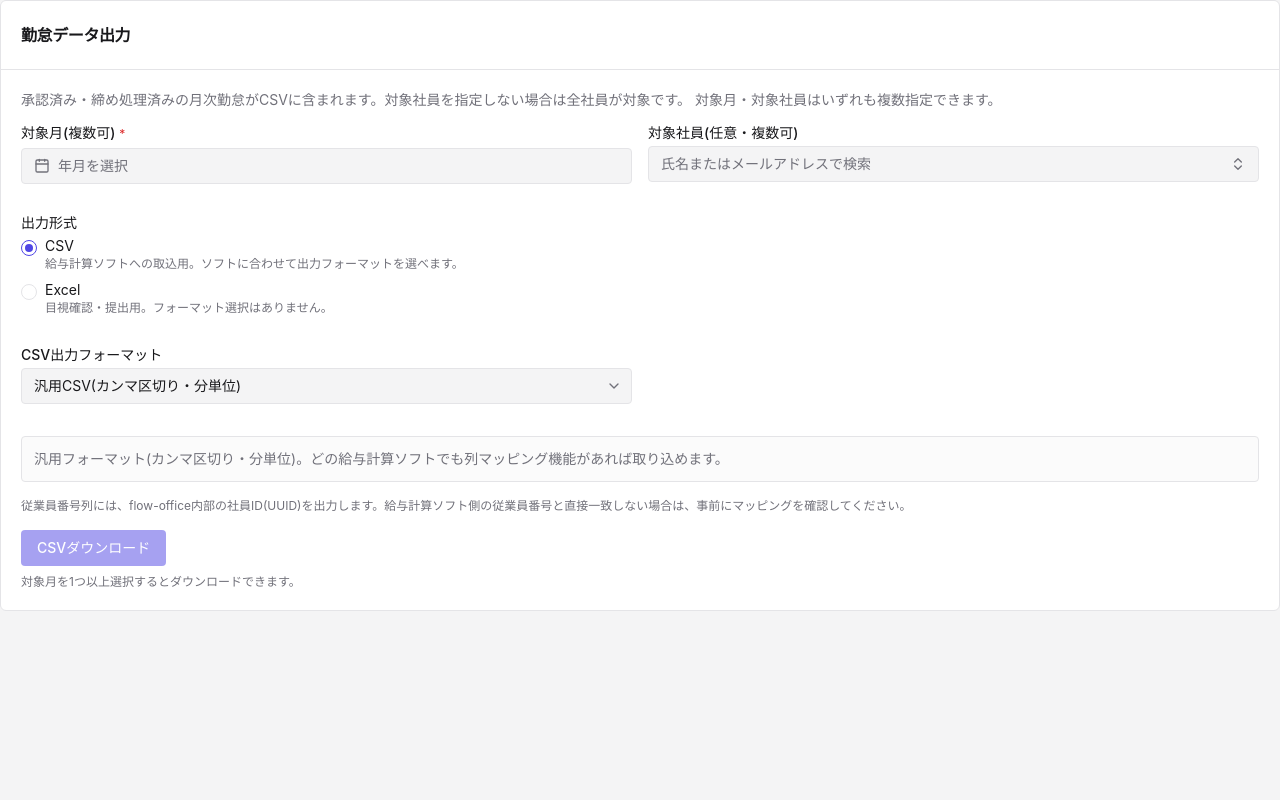
Scenario: AttendanceExportPage › shows the format description and documentation link for the selected format
Expected: the text "汎用フォーマット(カンマ区切り・分単位)。どの給与計算ソフトでも列マッピング機能があれば取り込めます。" is shown, [34, 450, 729, 467]
Select "freee人事労務 勤怠サマリー形式" in the dropdown labelled "CSV出力フォーマット": (326, 386) [21, 368, 632, 404]
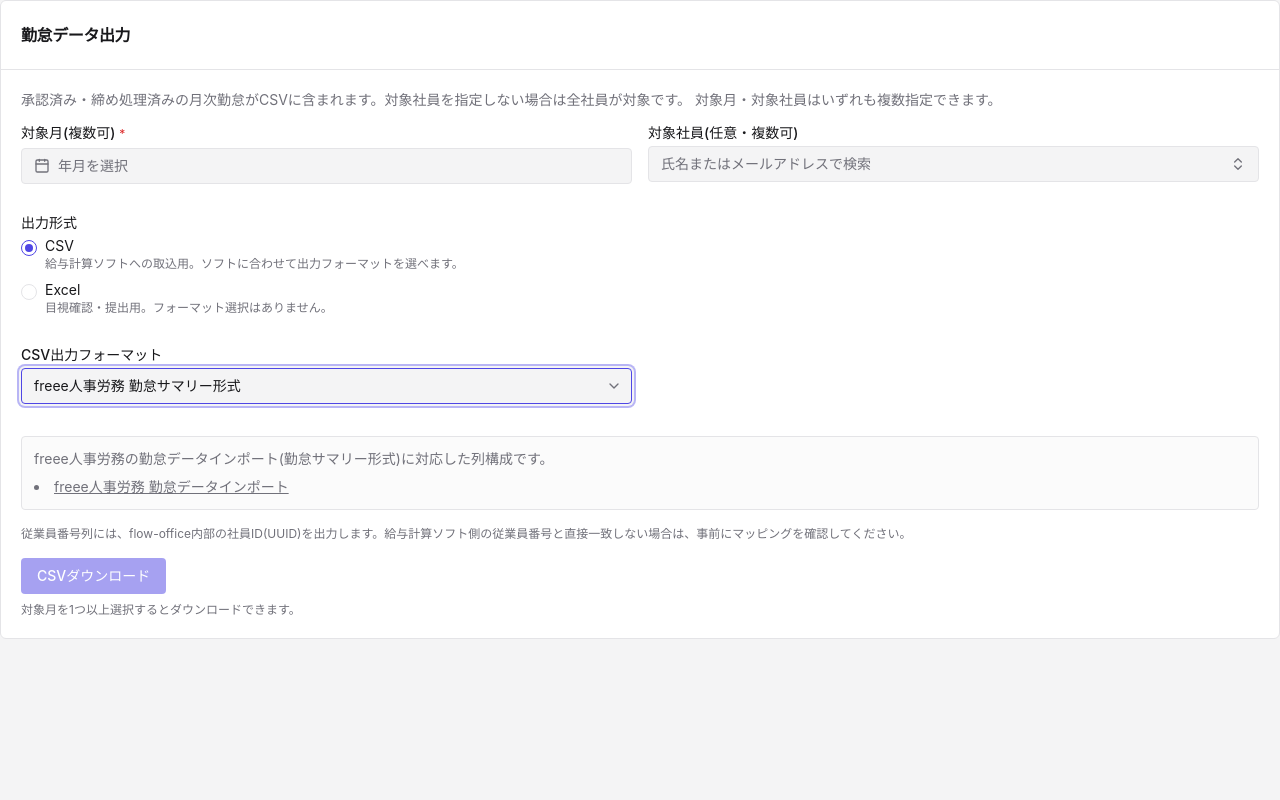
Result: the text "freee人事労務の勤怠データインポート(勤怠サマリー形式)に対応した列構成です。" is shown at [34, 450, 554, 467]
